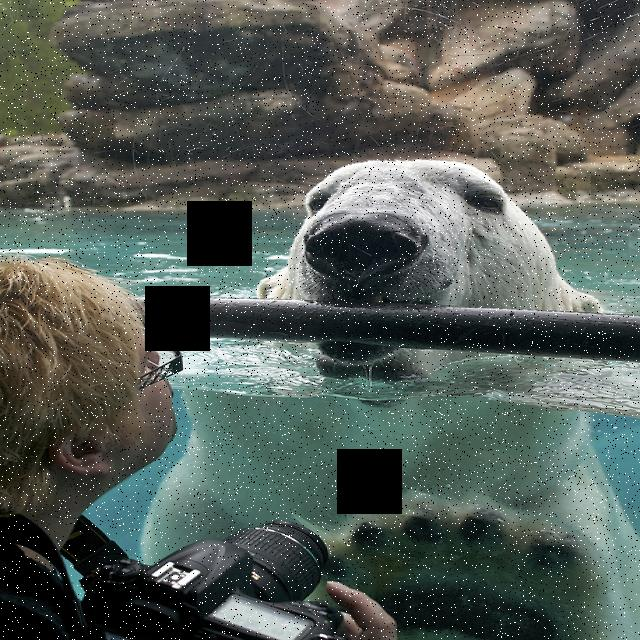Bear: (207, 140, 638, 625)
